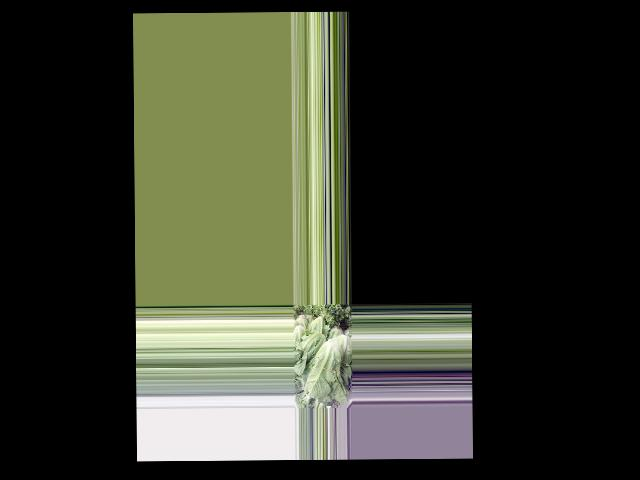lettuce: (295, 330, 324, 377)
